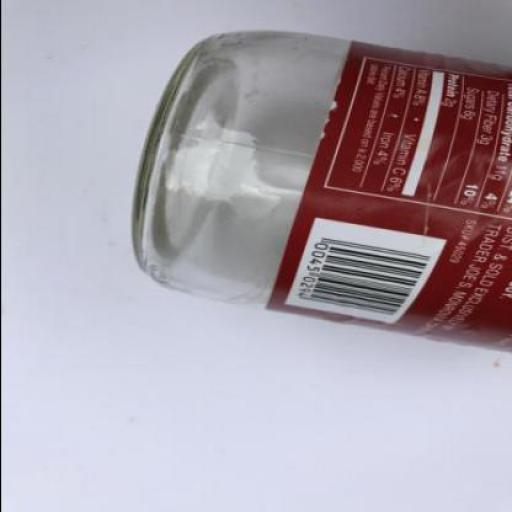glass: (129, 31, 511, 357)
